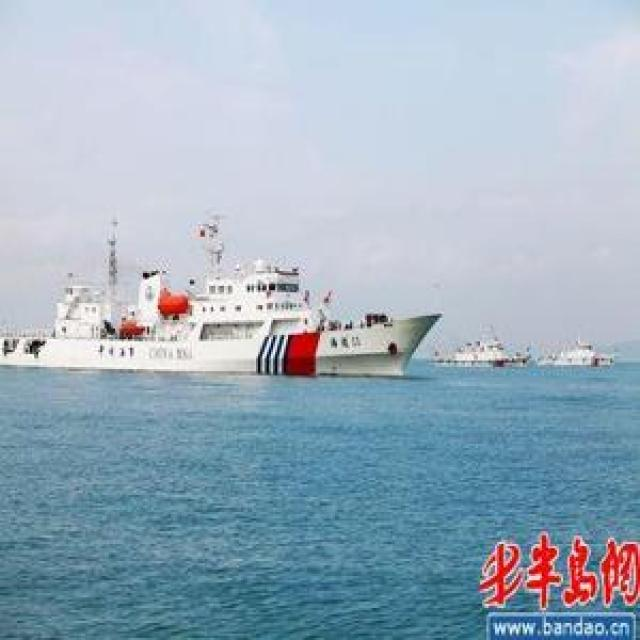navalvessels: (0, 227, 427, 384), (437, 319, 532, 371), (538, 328, 611, 374)
